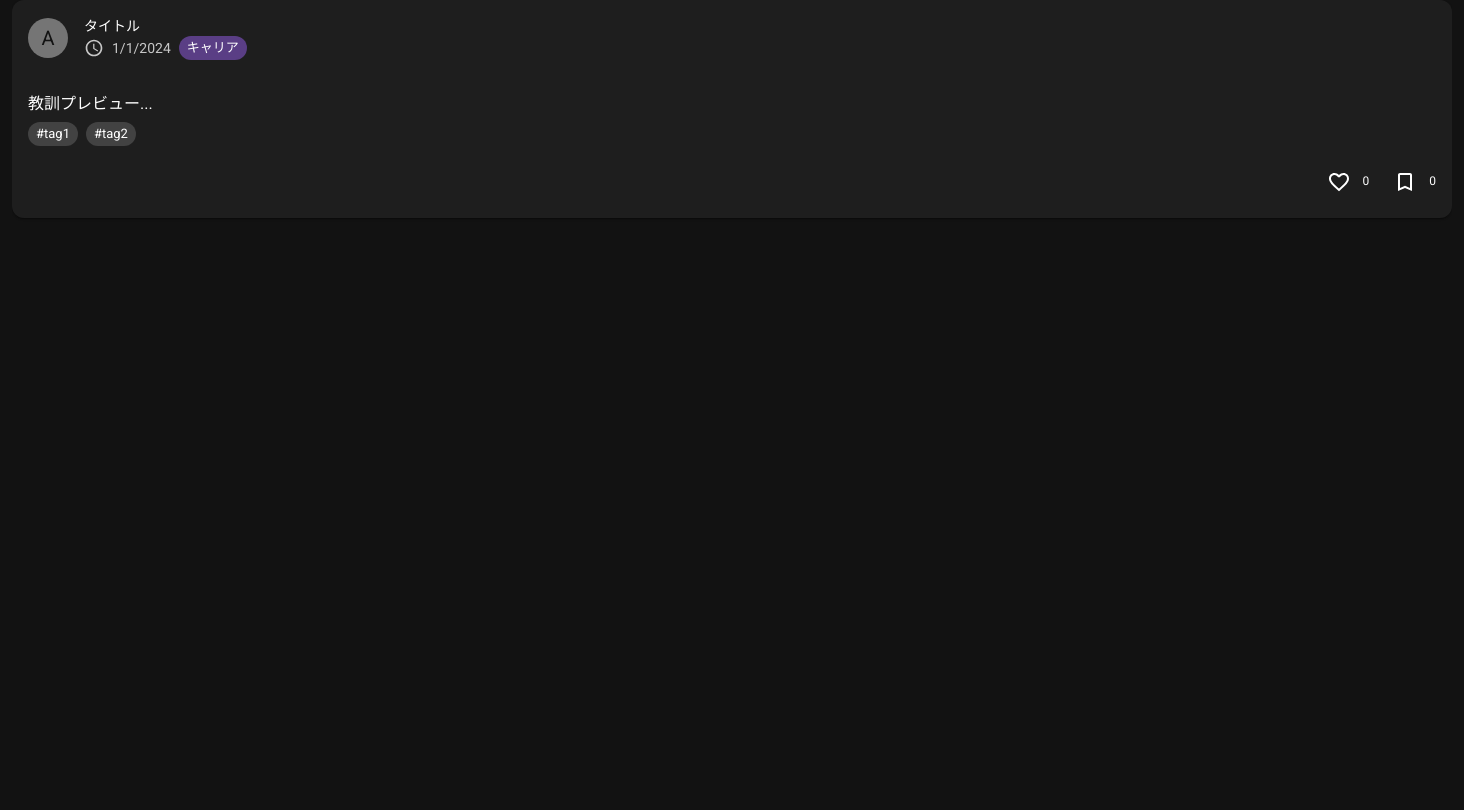
Scenario: PostCard › rolls back optimistic update and shows error on failure
Click the button named "共感".
click(1338, 182)  # box [1318,162,1358,202]
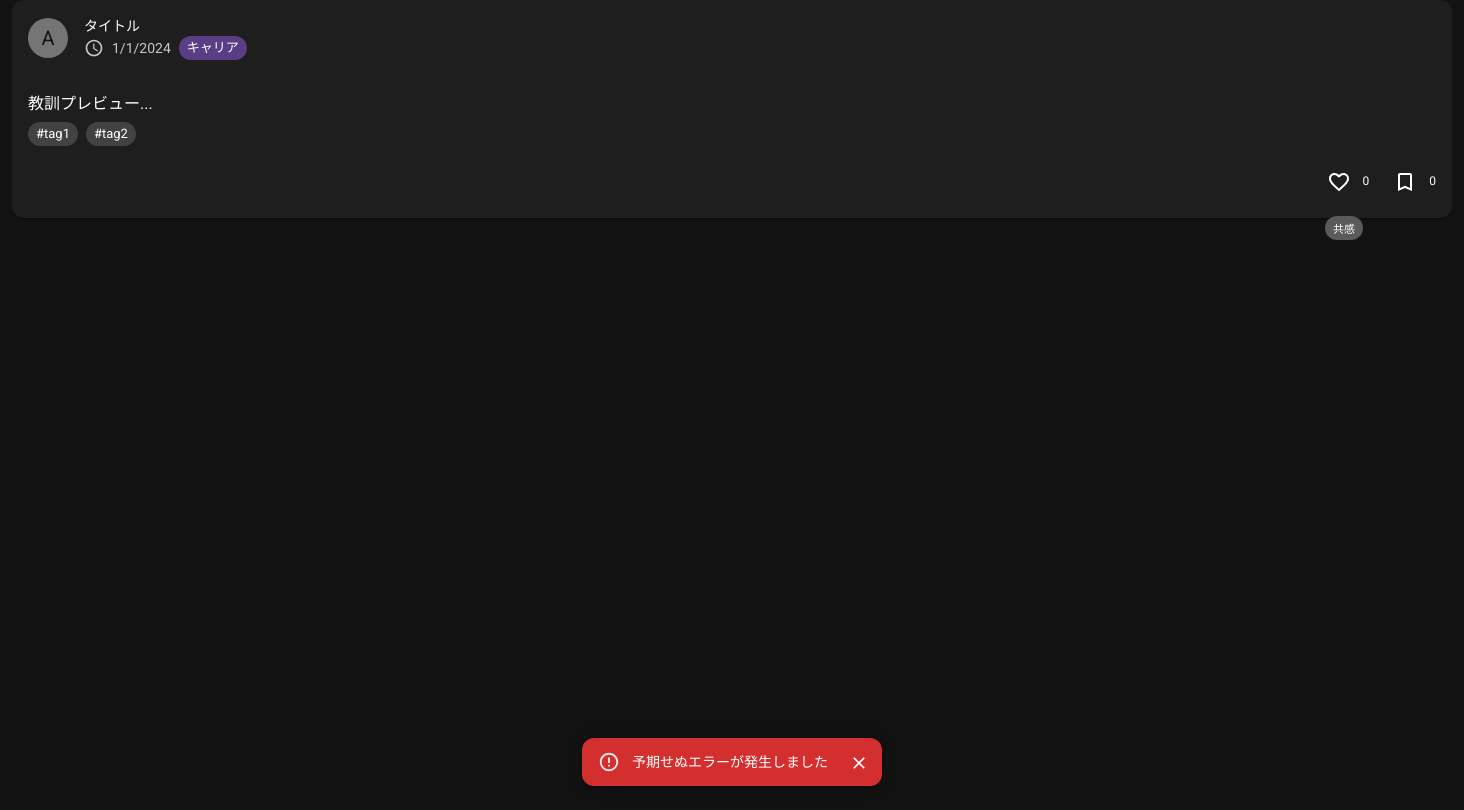
Expected: the 1st text "0" is shown, [1362,172,1369,192]
Expected: the message reads "予期せぬエラーが発生しました", [632,754,828,770]
